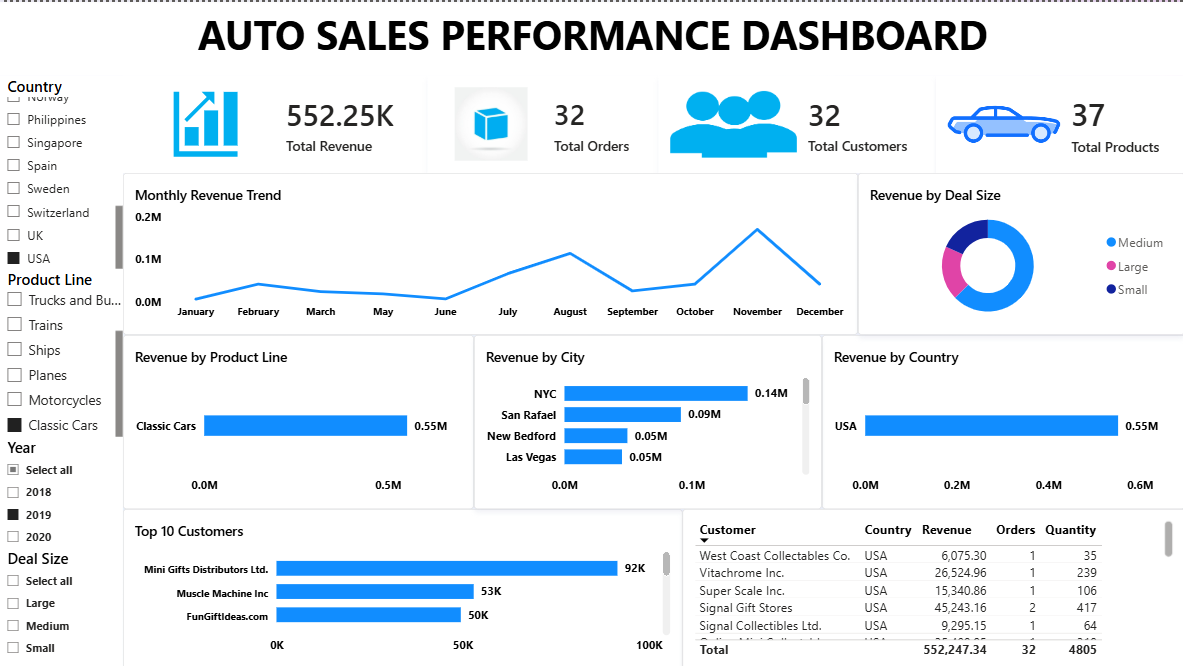

The dashboard page shown, as its layout file describes it:
{"tool":"powerbi","page":{"name":"Autosales Perfomance Dashboard","canvas":[1280,720],"ordinal":0},"visuals":[{"type":"cardVisual","fields":{"Data":["_measure.Total_revenue"]},"box":[132.8,79.3,328.7,105.2],"z":0},{"type":"cardVisual","fields":{"Data":["_measure.Total_orders"]},"box":[461.5,79.3,249.4,105.2],"z":1000},{"type":"cardVisual","fields":{"Data":["_measure.Total_customers"]},"box":[710.8,79.3,299.6,105.2],"z":2000},{"type":"cardVisual","fields":{"Data":["_measure.Total_products"]},"box":[1010.4,79.3,268.8,105.2],"z":3000},{"type":"lineChart","title":"Monthly Revenue Trend","fields":{"Y":["_measure.Total_revenue"],"Category":["Date.Month"]},"box":[132.8,184.6,793.4,174.9],"z":4000},{"type":"clusteredBarChart","title":"Revenue by Product Line","fields":{"Y":["_measure.Total_revenue"],"Category":["dim_products.product_line"]},"box":[132.8,359.5,378.9,187.8],"z":5000},{"type":"barChart","title":"Revenue by Country","fields":{"Y":["_measure.Total_revenue"],"Category":["dim_customers.country"]},"box":[887.3,359.5,391.9,187.8],"z":6000},{"type":"clusteredBarChart","title":"Top 10 Customers","fields":{"Category":["dim_customers.customer_name"],"Y":["_measure.Total_revenue"]},"box":[132.8,547.3,604,173.3],"z":7000},{"type":"donutChart","title":"Revenue by Deal Size","fields":{"Category":["fact_sales.deal_size"],"Y":["_measure.Total_revenue"]},"box":[926.2,184.6,353,174.9],"z":8000},{"type":"clusteredBarChart","title":"Revenue by City","fields":{"Category":["dim_customers.city"],"Y":["_measure.Total_revenue"]},"box":[511.7,359.5,375.7,187.8],"z":10000},{"type":"tableEx","fields":{"Values":["fact_sales.customer_name","dim_customers.country","_measure.Total_revenue","_measure.Total_orders","_measure.Total_quantity"]},"box":[736.7,547.3,542.4,173.3],"z":11000},{"type":"slicer","fields":{"Values":["Date.Year"]},"box":[0,469.6,132.8,119.8],"z":12000},{"type":"slicer","fields":{"Values":["dim_customers.country"]},"box":[0,79.3,132.8,208.9],"z":13000},{"type":"slicer","fields":{"Values":["dim_products.product_line"]},"box":[0,288.2,132.8,181.4],"z":14000},{"type":"slicer","fields":{"Values":["fact_sales.deal_size"]},"box":[0,589.4,132.8,131.2],"z":15000},{"type":"textbox","box":[0,0,1279.2,79.3],"z":16000}]}

Visuals, with their boxes on the page's 1280x720 design canvas (x1, y1, x2, y2). These are canvas units, not pixel positions in the 1183x666 screenshot, which may show the page scaled, cropped or inside an application window:
cardVisual - _measure.Total_revenue: {"x1": 133, "y1": 79, "x2": 462, "y2": 184}
cardVisual - _measure.Total_orders: {"x1": 462, "y1": 79, "x2": 711, "y2": 184}
cardVisual - _measure.Total_customers: {"x1": 711, "y1": 79, "x2": 1010, "y2": 184}
cardVisual - _measure.Total_products: {"x1": 1010, "y1": 79, "x2": 1279, "y2": 184}
"Monthly Revenue Trend" lineChart: {"x1": 133, "y1": 185, "x2": 926, "y2": 360}
"Revenue by Product Line" clusteredBarChart: {"x1": 133, "y1": 360, "x2": 512, "y2": 547}
"Revenue by Country" barChart: {"x1": 887, "y1": 360, "x2": 1279, "y2": 547}
"Top 10 Customers" clusteredBarChart: {"x1": 133, "y1": 547, "x2": 737, "y2": 721}
"Revenue by Deal Size" donutChart: {"x1": 926, "y1": 185, "x2": 1279, "y2": 360}
"Revenue by City" clusteredBarChart: {"x1": 512, "y1": 360, "x2": 887, "y2": 547}
tableEx - fact_sales.customer_name x dim_customers.country: {"x1": 737, "y1": 547, "x2": 1279, "y2": 721}
slicer - Date.Year: {"x1": 0, "y1": 470, "x2": 133, "y2": 589}
slicer - dim_customers.country: {"x1": 0, "y1": 79, "x2": 133, "y2": 288}
slicer - dim_products.product_line: {"x1": 0, "y1": 288, "x2": 133, "y2": 470}
slicer - fact_sales.deal_size: {"x1": 0, "y1": 589, "x2": 133, "y2": 721}
textbox: {"x1": 0, "y1": 0, "x2": 1279, "y2": 79}
